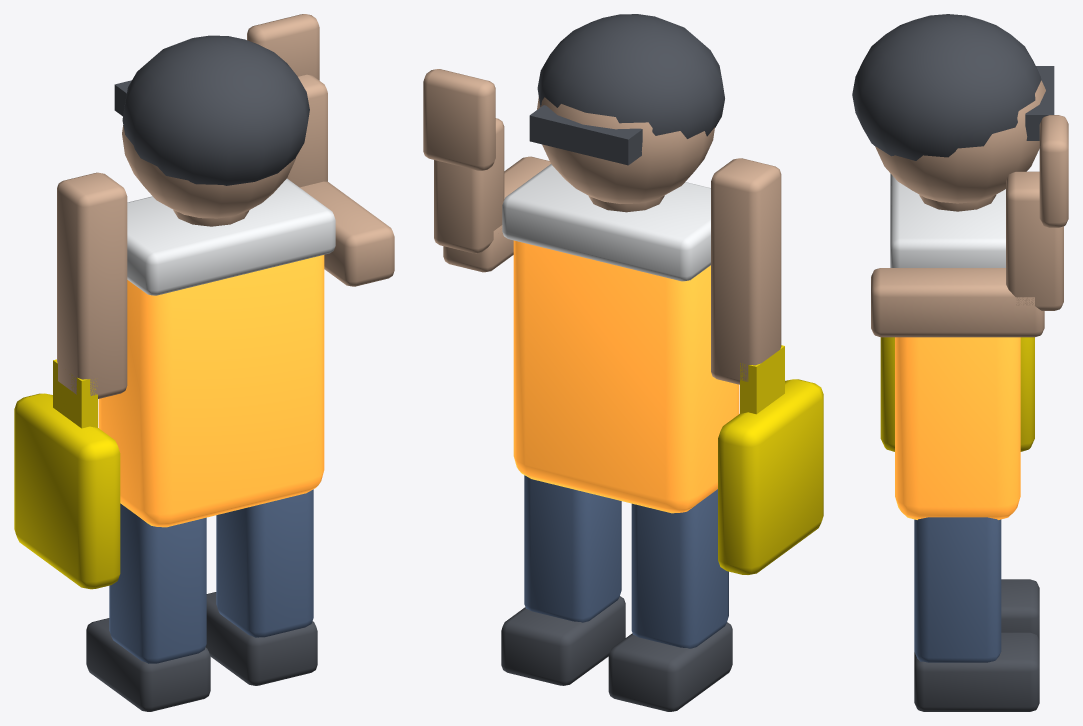
Rendered from pedestrian_jaywalker.glb.
3 views of the same model, side by side, from view 1: azimuth 30°, elevation 25°; view 2: azimuth 150°, elevation 25°; view 3: azimuth 270°, elevation 25° (orthographic).
Visible parts, largest first — view 1: Ped_Torso, Arm_L, Leg_L, Leg_R, Arm_R; view 2: Ped_Torso, Arm_L, Leg_L, Leg_R, Arm_R; view 3: Ped_Torso, Arm_R, Leg_R, Arm_L, Leg_L.
Boxes of the visible parts, <box> form: Ped_Torso: <box>98,35,335,527</box>; Arm_L: <box>14,172,127,589</box>; Leg_L: <box>86,503,210,711</box>; Leg_R: <box>205,489,317,685</box>; Arm_R: <box>247,14,394,286</box>; Ped_Torso: <box>502,14,739,513</box>; Arm_L: <box>711,158,823,574</box>; Leg_L: <box>608,489,732,711</box>; Leg_R: <box>501,475,625,685</box>; Arm_R: <box>423,69,550,272</box>; Ped_Torso: <box>852,14,1054,519</box>; Arm_R: <box>871,115,1068,337</box>; Leg_R: <box>914,517,1039,711</box>; Arm_L: <box>880,337,1034,451</box>; Leg_L: <box>1001,579,1039,640</box>.
Size of the model in its own units: 0.77 by 1.48 by 0.4489.
